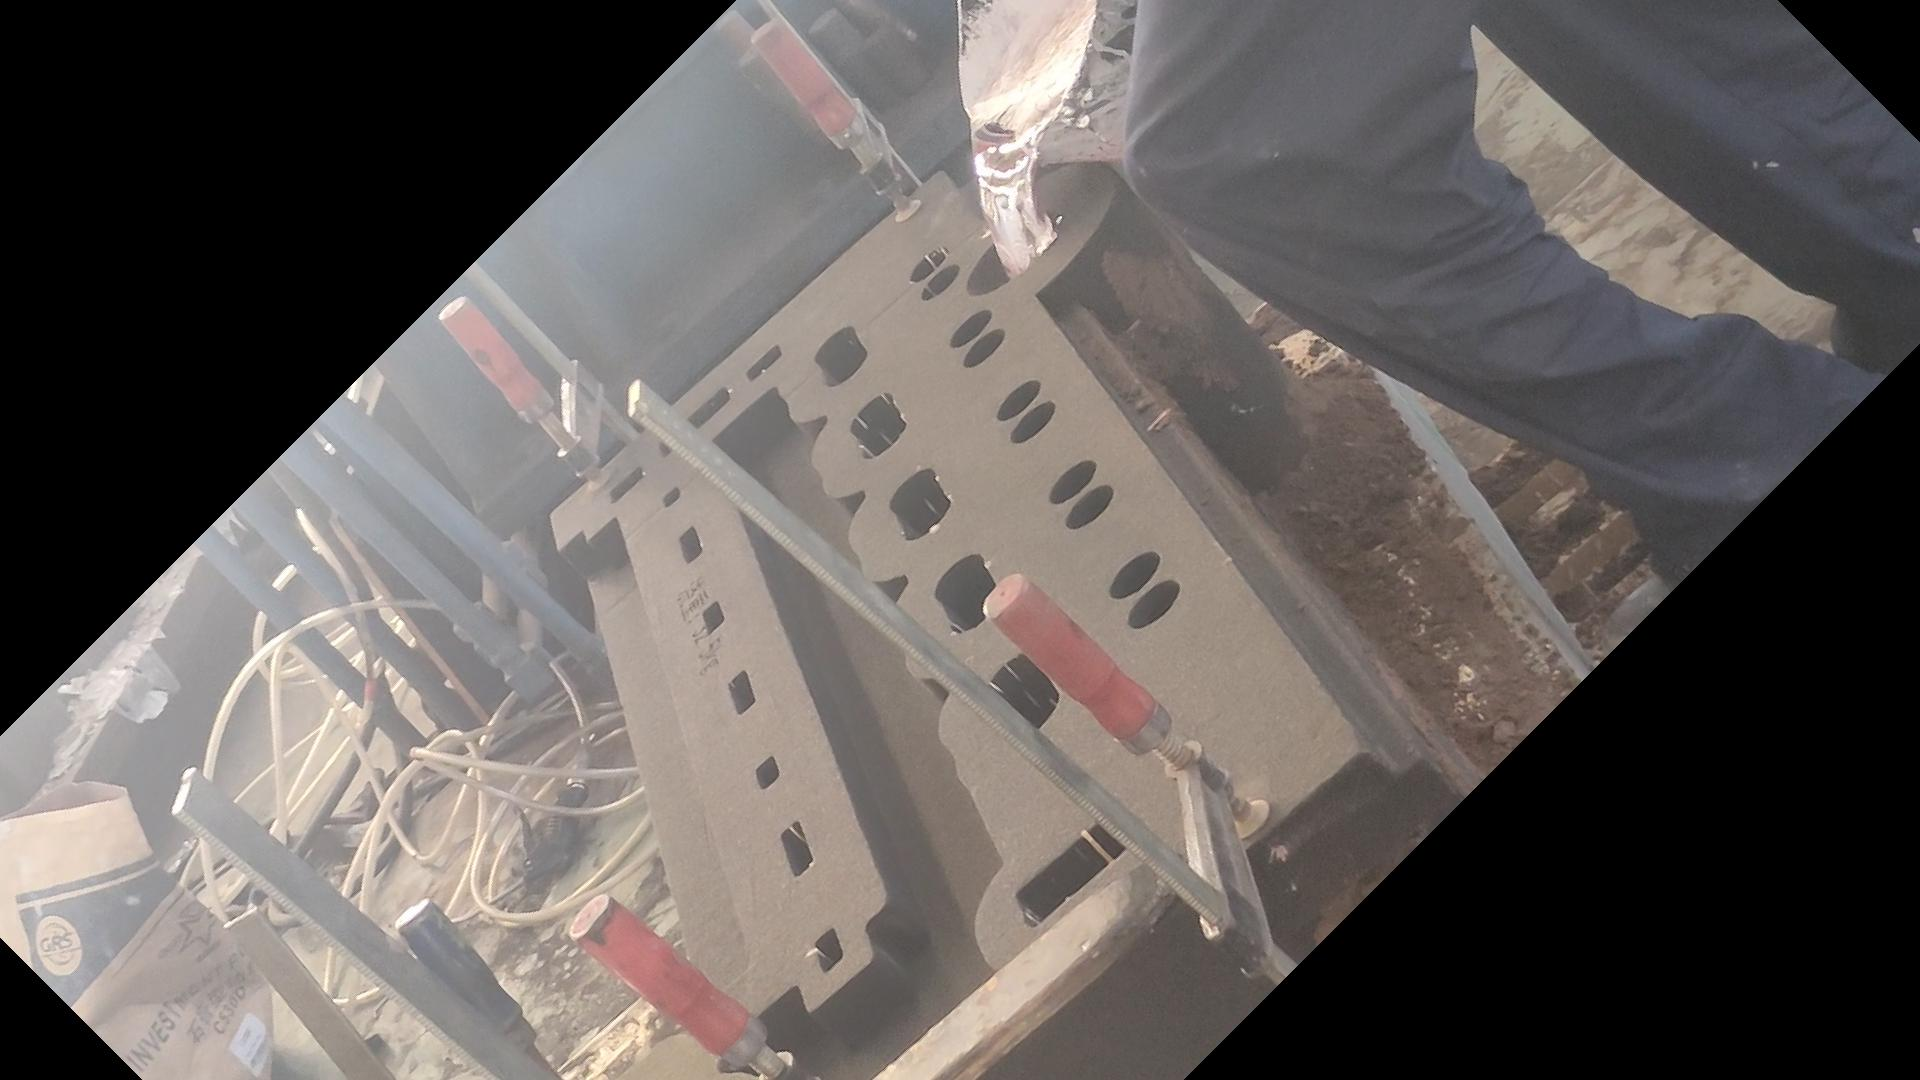pouring hole: (965, 206, 1062, 297)
